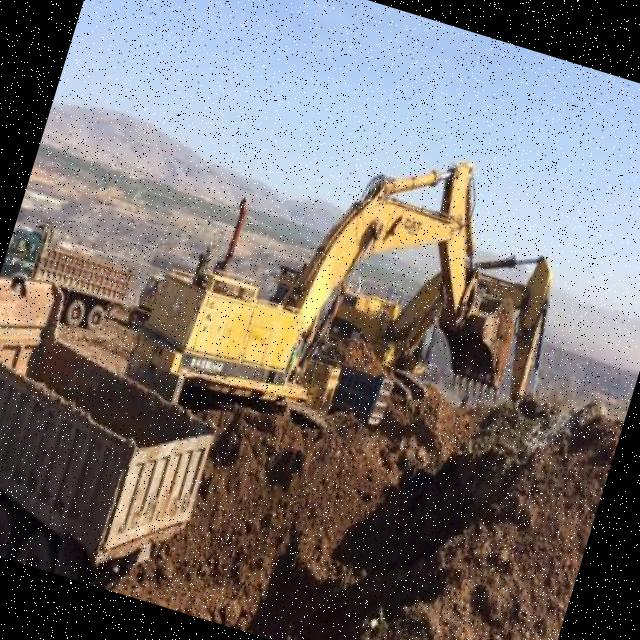Dump Truck: (0, 282, 240, 607), (0, 214, 142, 326), (329, 366, 397, 427), (302, 354, 341, 413)
Excavator: (110, 82, 558, 505), (323, 194, 572, 398)
